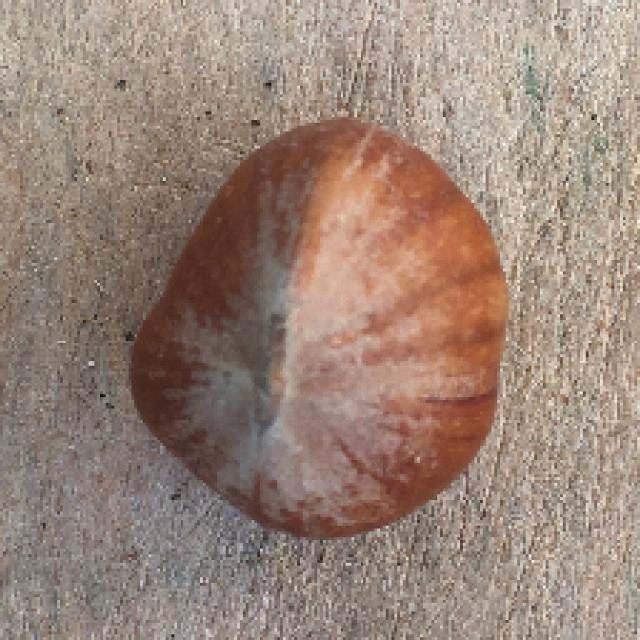qualityHazelnut: (109, 112, 522, 550)
